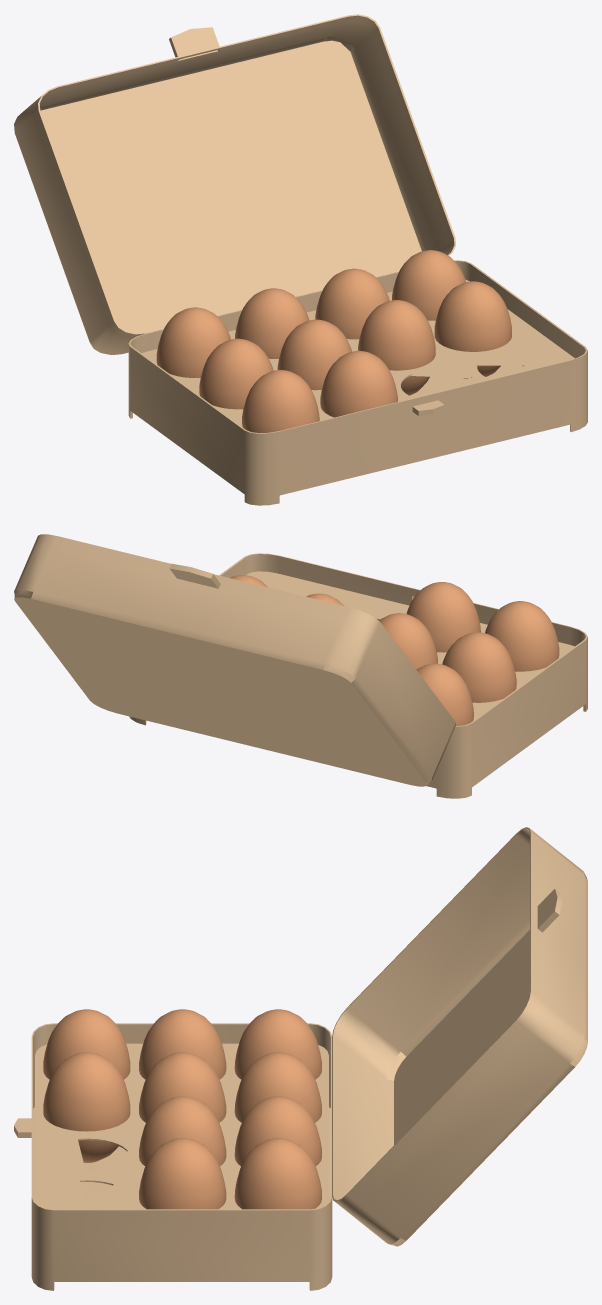
The model's file is telur satu pak.fbx.
The picture shows the model from 3 angles, top to bottom: view 1: azimuth 30°, elevation 25°; view 2: azimuth 150°, elevation 25°; view 3: azimuth 270°, elevation 25°; orthographic projection. The views are drawn at different scales.
Visible parts, largest first — view 1: Cube.002, Cylinder, Cube, Cube.001; view 2: Cube.002, Cylinder, Cube, Cube.001; view 3: Cube.002, Cylinder, Cube, Cube.001.
Part boxes in pixels (x1,y1,x2,y2): Cube.002: (14, 14, 456, 354); Cylinder: (156, 250, 511, 432); Cube: (128, 260, 587, 505); Cube.001: (142, 280, 574, 427); Cube.002: (14, 534, 455, 786); Cylinder: (230, 575, 559, 726); Cube: (129, 553, 587, 798); Cube.001: (246, 571, 574, 720); Cube.002: (332, 827, 587, 1246); Cylinder: (43, 1009, 321, 1209); Cube: (14, 1023, 332, 1290); Cube.001: (35, 1043, 328, 1209).
Bounding box in the file's own units: 546 × 408 × 708.
Materials: 1 (1 with a texture image).
